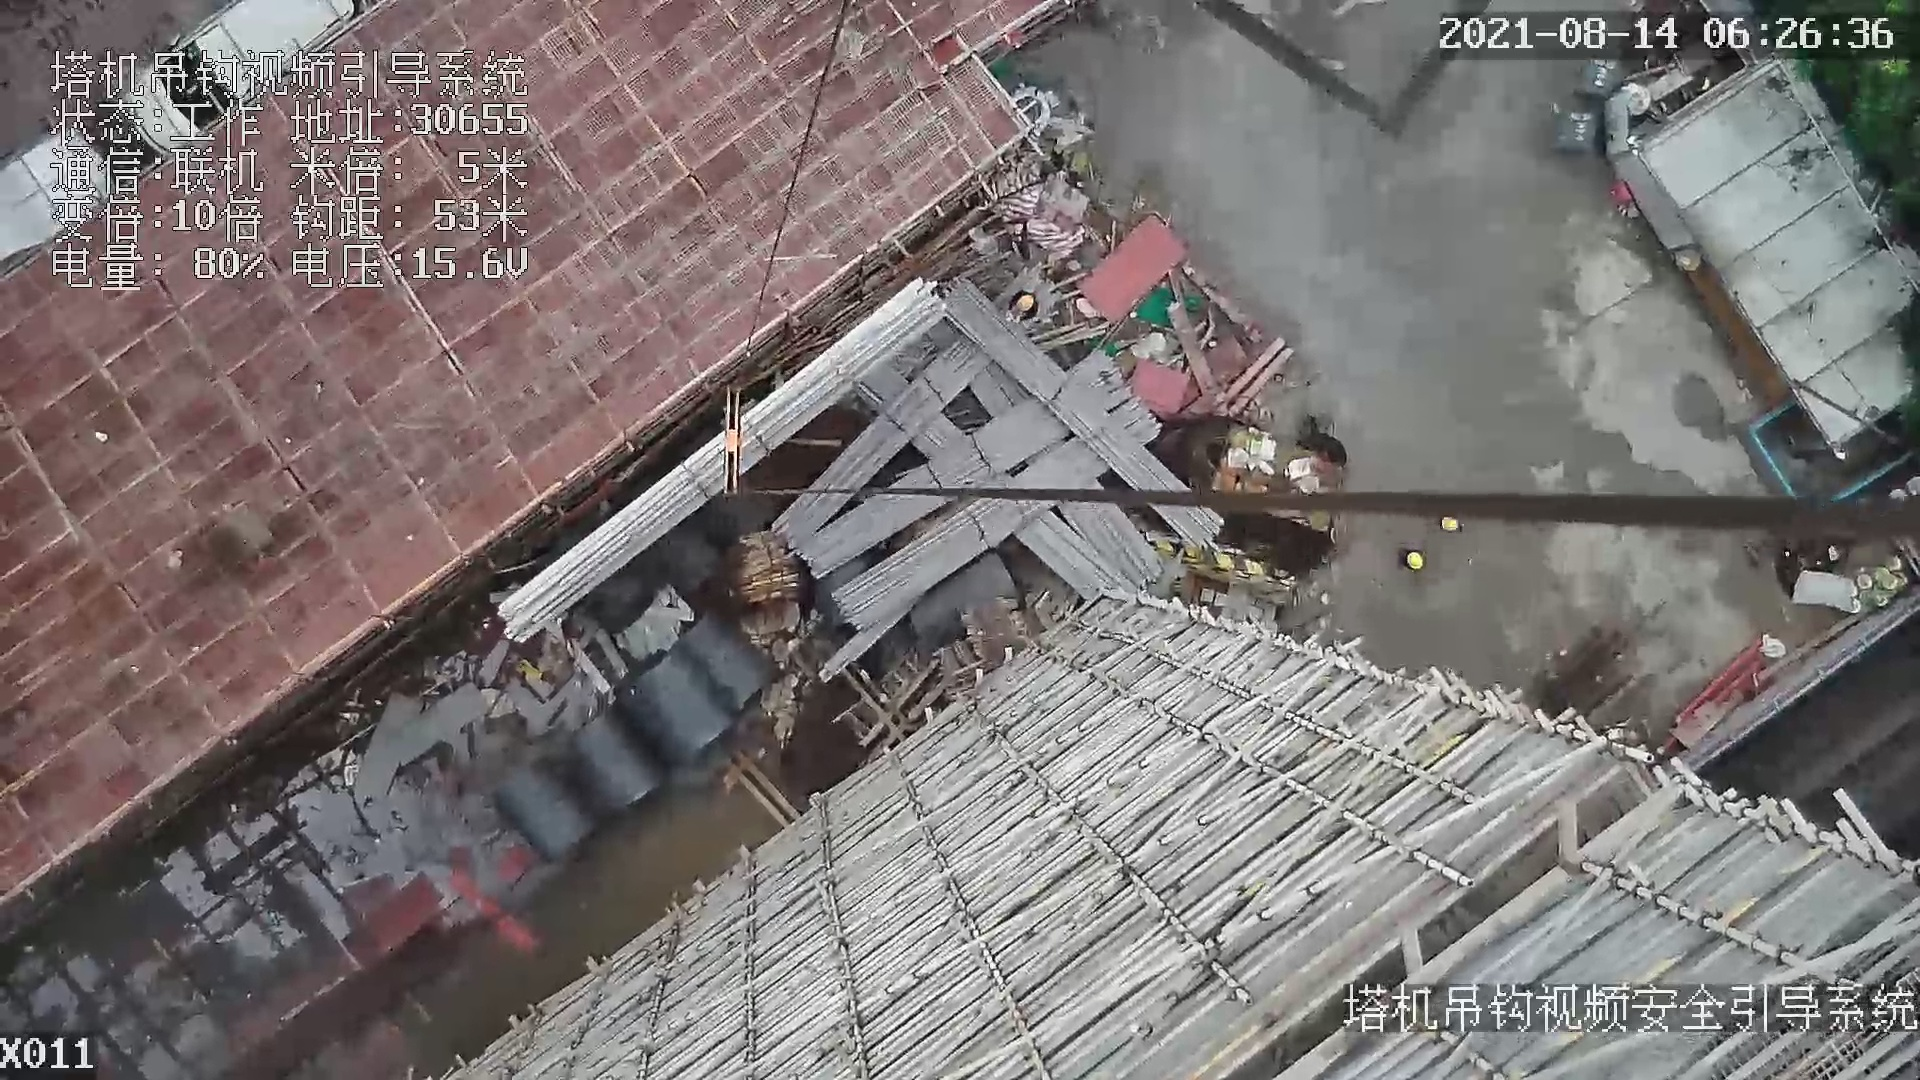helmet: (1017, 293, 1036, 313), (1406, 551, 1422, 569)
hook: (708, 381, 749, 503)
person: (1003, 283, 1041, 331), (1396, 545, 1423, 568)
